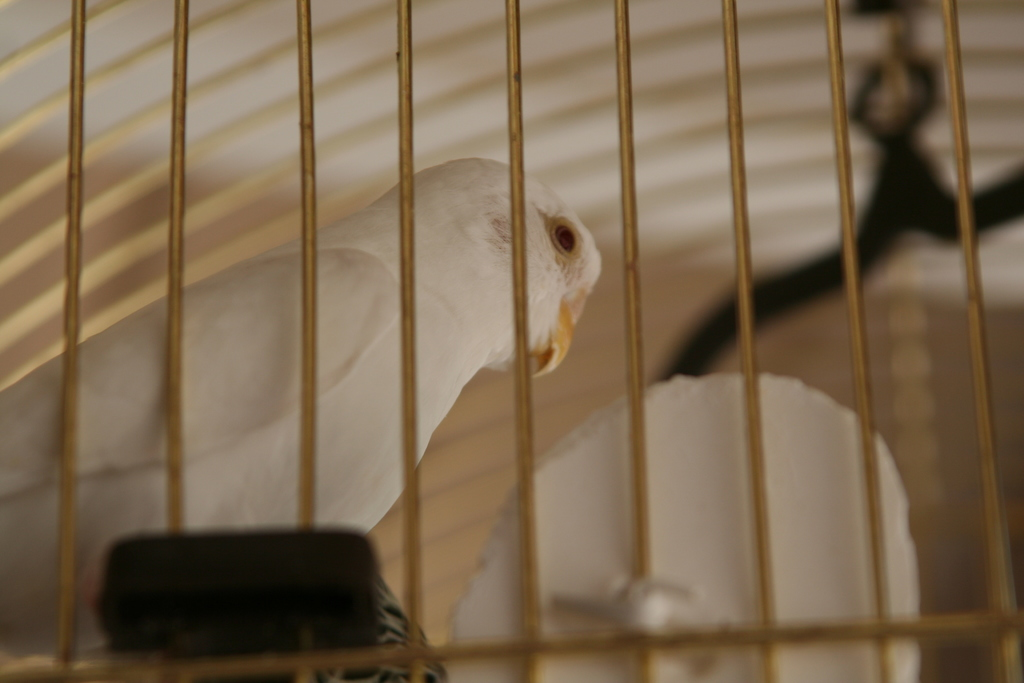Bird: (0, 157, 601, 683)
